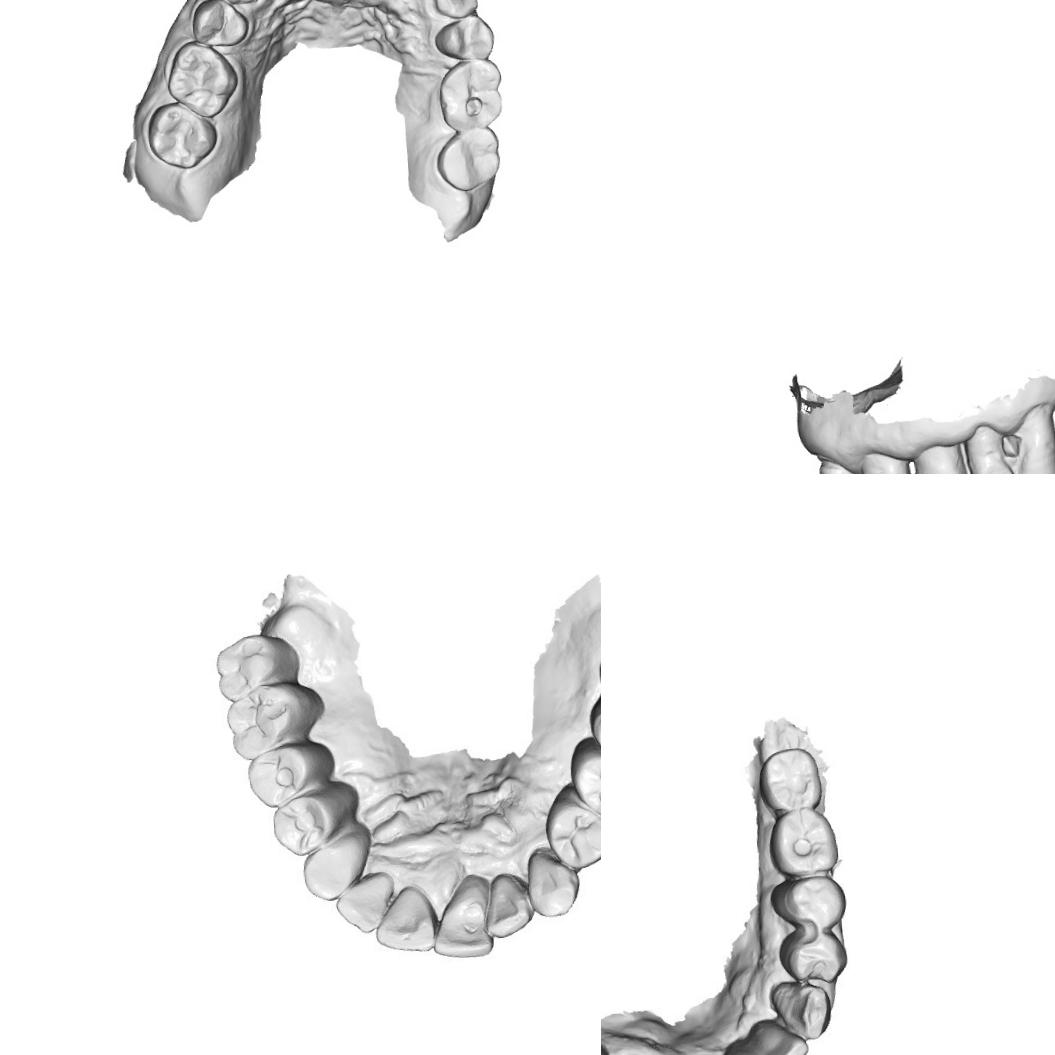canine: (296, 829, 371, 907), (520, 844, 580, 921), (774, 980, 832, 1036), (815, 454, 872, 474), (429, 0, 481, 19)
incisor: (430, 870, 497, 956), (331, 868, 398, 938), (367, 888, 438, 951), (482, 871, 537, 938), (855, 446, 932, 474), (757, 1020, 810, 1055), (908, 452, 985, 474), (967, 448, 1026, 474), (1016, 435, 1055, 474), (730, 1042, 775, 1055)
molar: (162, 36, 242, 122), (761, 805, 845, 878), (224, 685, 306, 756), (144, 97, 219, 172), (433, 56, 505, 134), (432, 124, 503, 195), (758, 744, 830, 813), (212, 634, 279, 699)
premolar: (536, 780, 601, 870), (767, 870, 848, 934), (778, 924, 848, 989), (270, 788, 336, 852), (246, 745, 312, 808), (557, 732, 601, 820), (430, 11, 498, 64), (186, 0, 250, 50)
